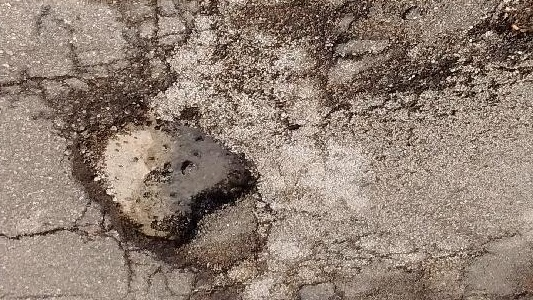pothole: (64, 104, 266, 260), (485, 0, 532, 42)
